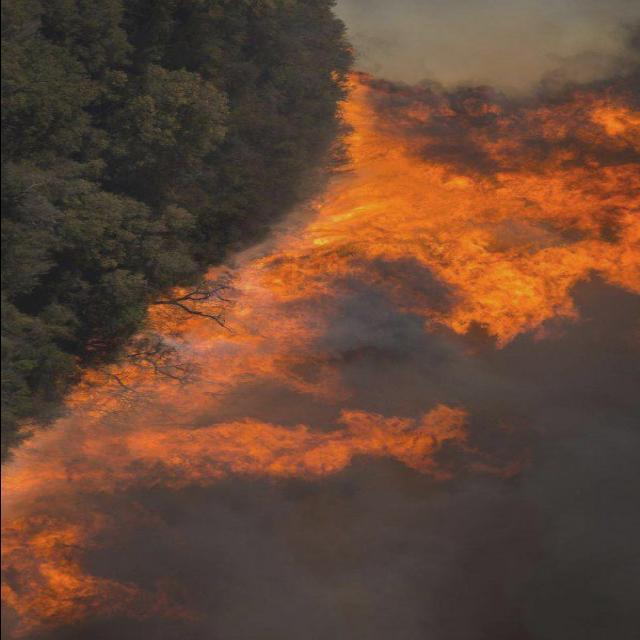Fire: (6, 72, 622, 634)
